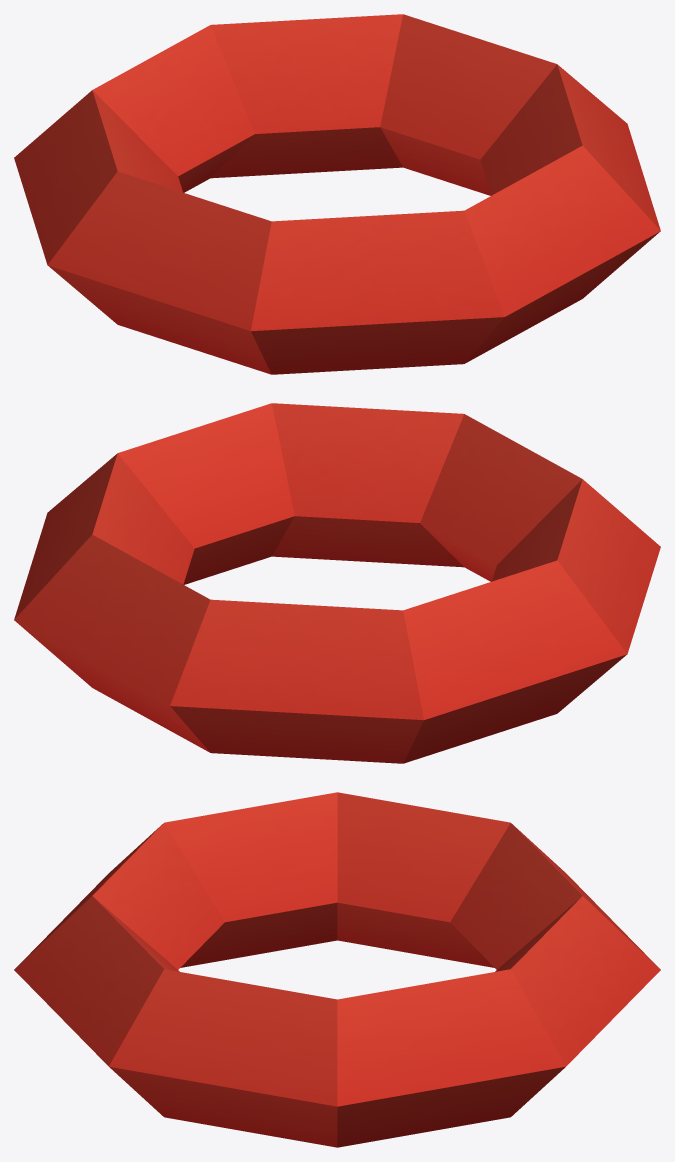
File: flotadorRojo.fbx
The picture shows the model from 3 angles, top to bottom: view 1: azimuth 30°, elevation 25°; view 2: azimuth 150°, elevation 25°; view 3: azimuth 270°, elevation 25°; orthographic projection. The views are drawn at different scales.
Visible parts, largest first — view 1: flotadorRojo; view 2: flotadorRojo; view 3: flotadorRojo.
Part boxes in pixels (<box>): flotadorRojo: <box>14,14,660,374</box>; flotadorRojo: <box>14,403,660,763</box>; flotadorRojo: <box>14,792,660,1147</box>.
Size of the model in its own units: 57.36 by 14.5 by 57.36.
Materials: 1 (1 with a texture image).
